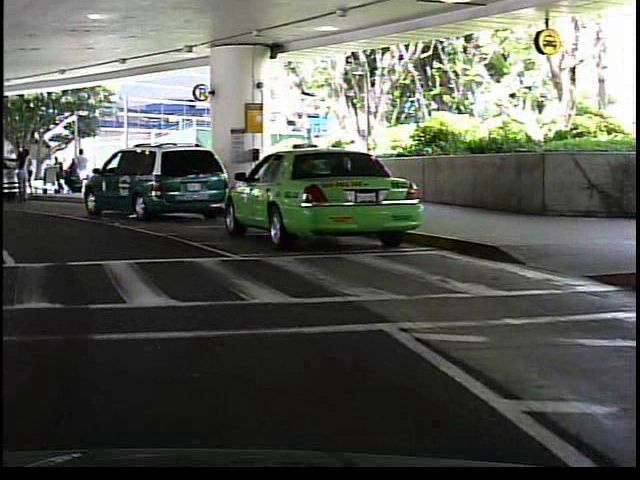person: (12, 151, 30, 202)
